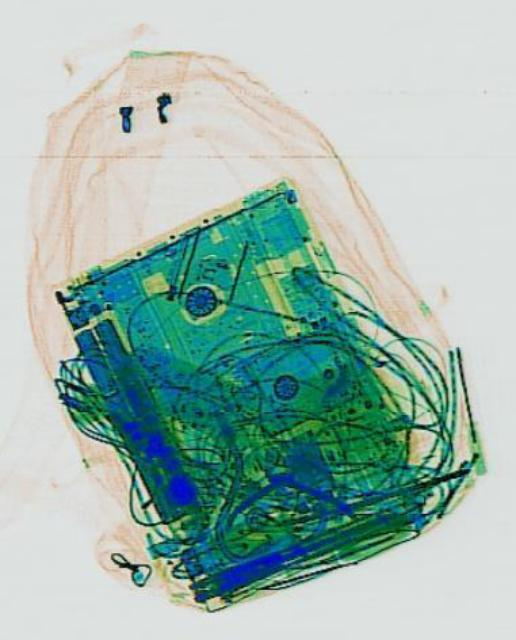Pliers: (219, 462, 353, 532)
